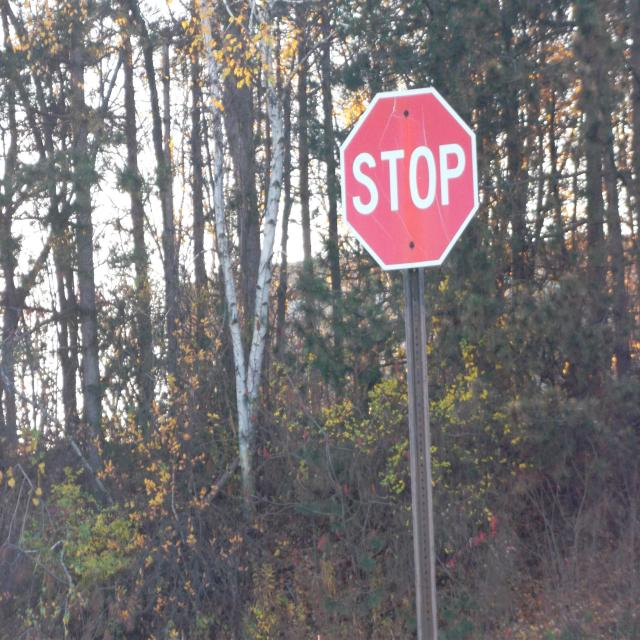stop: (337, 85, 483, 276)
